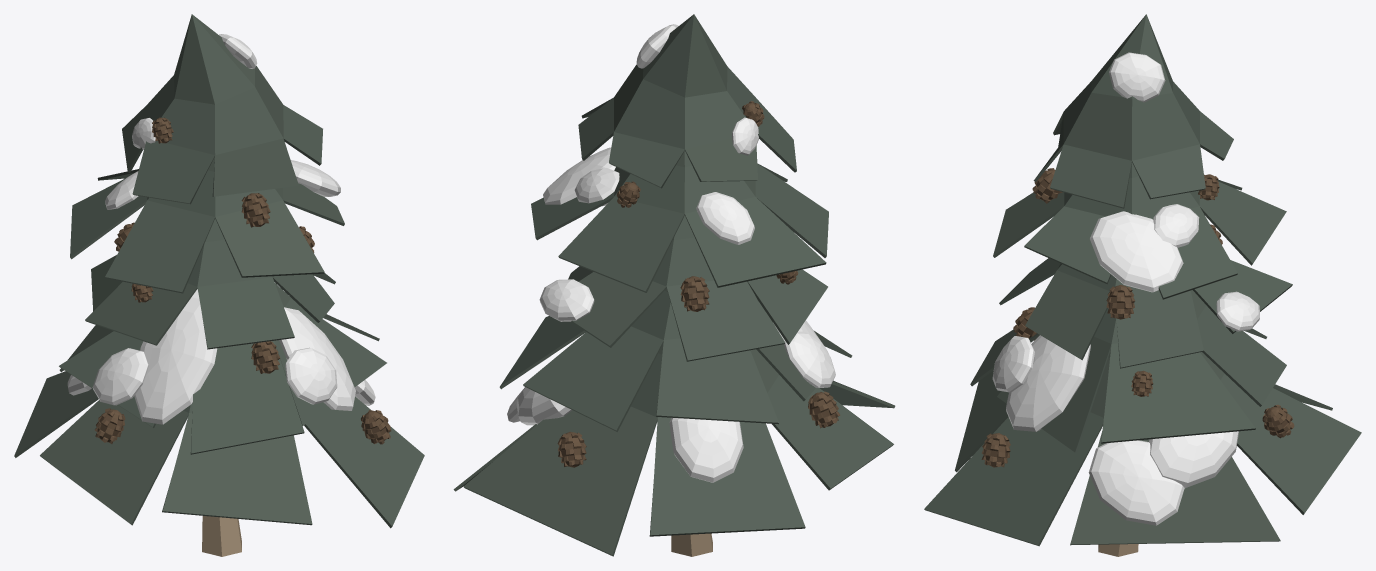
Rendered from Arbol Exterior 2.fbx.
3 views of the same model, side by side, from view 1: azimuth 30°, elevation 25°; view 2: azimuth 150°, elevation 25°; view 3: azimuth 270°, elevation 25° (orthographic). The views are drawn at different scales.
Visible parts, largest first — view 1: Hojas_5, hojas_1, Hojas_2, Hojas_4, Hojas_3, pSphere36, pSphere43, pSphere44, pSphere42, Tronco_Dif_1, pSphere37, pSphere33 (+6 smaller); view 2: Hojas_5, Hojas_2, Hojas_4, hojas_1, Hojas_3, pSphere35, pSphere40, pSphere42, pSphere38, pSphere37, pSphere46, pSphere39 (+6 smaller); view 3: Hojas_5, Hojas_4, hojas_1, Hojas_2, Hojas_3, pSphere45, pSphere37, pSphere43, pSphere46, pSphere41, pSphere44, pSphere39 (+5 smaller).
Boxes of the visible parts, box(x1,y1,x2,y2) form: Hojas_5: box(14, 371, 424, 528); hojas_1: box(122, 14, 322, 204); Hojas_2: box(70, 157, 344, 293); Hojas_4: box(59, 283, 386, 454); Hojas_3: box(85, 218, 335, 349); pSphere36: box(134, 289, 217, 424); pSphere43: box(279, 307, 355, 410); pSphere44: box(285, 347, 337, 404); pSphere42: box(92, 348, 148, 405); Tronco_Dif_1: box(202, 516, 241, 556); pSphere37: box(290, 160, 340, 196); pSphere33: box(94, 408, 125, 443); Hojas_5: box(453, 343, 895, 556); Hojas_2: box(531, 150, 828, 292); Hojas_4: box(499, 288, 852, 431); hojas_1: box(578, 14, 796, 188); Hojas_3: box(568, 215, 827, 361); pSphere35: box(669, 417, 743, 482); pSphere40: box(696, 192, 754, 244); pSphere42: box(784, 331, 835, 387); pSphere38: box(539, 279, 594, 321); pSphere37: box(543, 147, 615, 204); pSphere46: box(516, 387, 572, 425); pSphere39: box(574, 168, 619, 206); Hojas_5: box(924, 350, 1361, 546); Hojas_4: box(970, 290, 1286, 453); hojas_1: box(1033, 14, 1233, 208); Hojas_2: box(993, 162, 1286, 299); Hojas_3: box(999, 258, 1292, 368); pSphere45: box(1088, 440, 1184, 525); pSphere37: box(1090, 211, 1183, 292); pSphere43: box(1006, 335, 1090, 431); pSphere46: box(1149, 431, 1238, 487); pSphere41: box(1109, 52, 1165, 102); pSphere44: box(992, 336, 1034, 392); pSphere39: box(1153, 204, 1199, 247).
Size of the model in its own units: 5.04 by 7.9 by 5.97.
